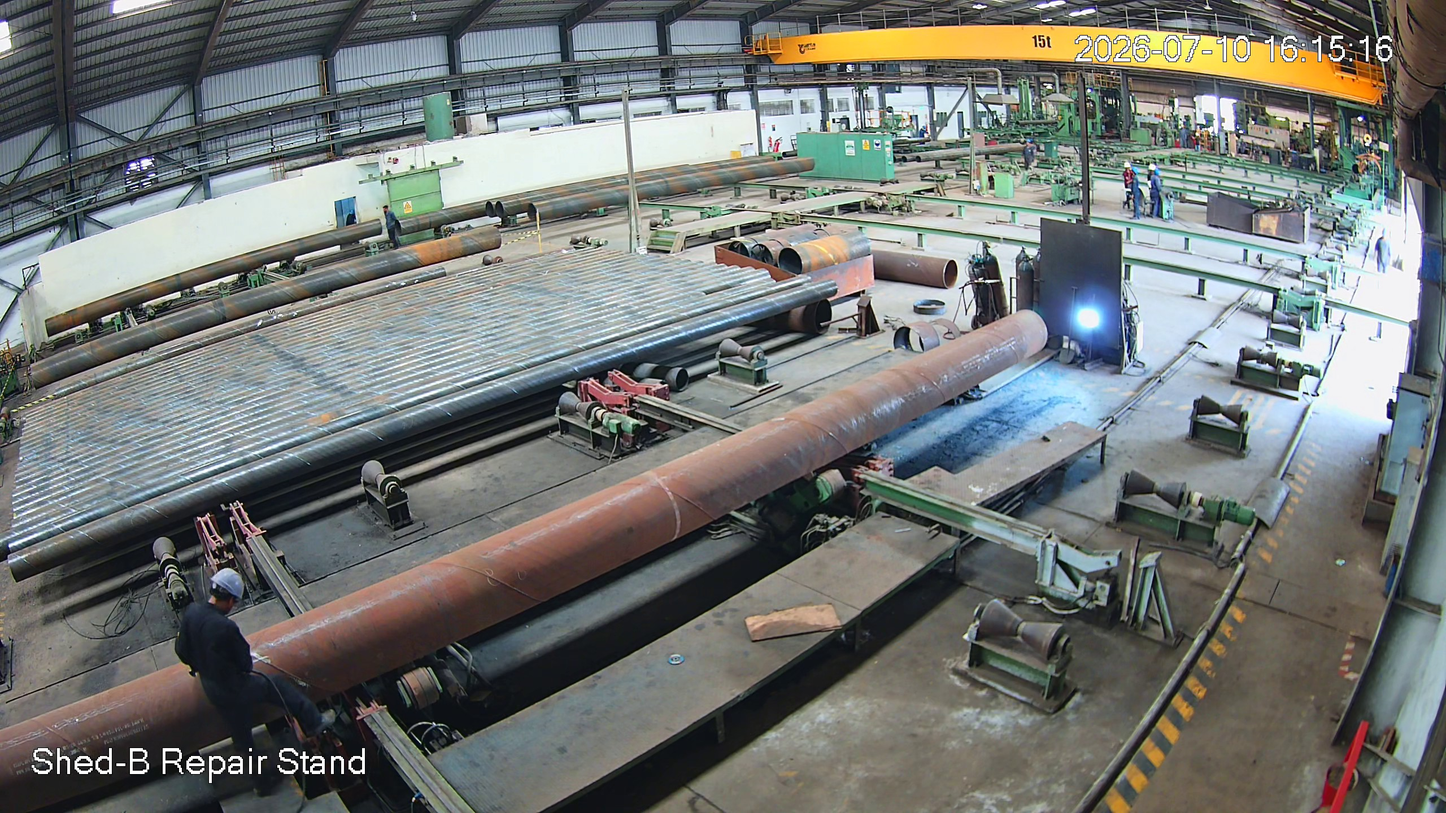Helmet: (195, 559, 260, 636), (1124, 161, 1133, 174), (1153, 168, 1162, 180), (1132, 167, 1141, 178)
Person: (164, 560, 346, 813), (381, 204, 401, 249), (1121, 162, 1136, 215), (1149, 169, 1163, 223), (1130, 168, 1142, 220)
